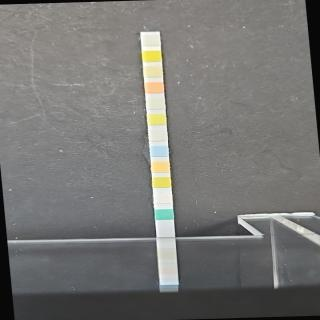mark: (147, 96, 164, 110), (145, 82, 163, 94), (144, 66, 162, 78), (143, 50, 161, 62), (152, 160, 168, 173), (153, 176, 170, 188), (150, 129, 167, 141), (142, 34, 159, 46), (155, 209, 173, 220), (150, 145, 168, 156), (148, 114, 166, 125), (154, 192, 171, 202)
